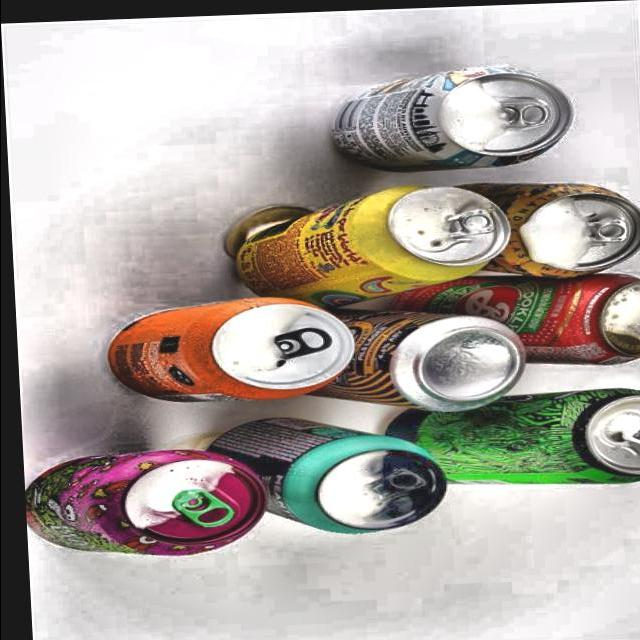litter: (217, 175, 520, 314), (170, 404, 452, 544), (18, 438, 272, 564), (316, 59, 584, 177), (96, 290, 356, 410), (373, 382, 640, 494), (281, 298, 532, 416), (370, 266, 640, 372), (431, 173, 640, 284)
